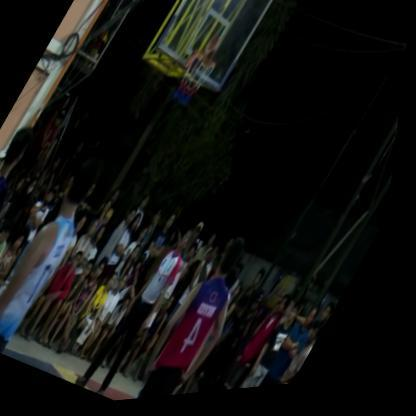basketball: (196, 37, 227, 73)
rim: (160, 48, 226, 123)
